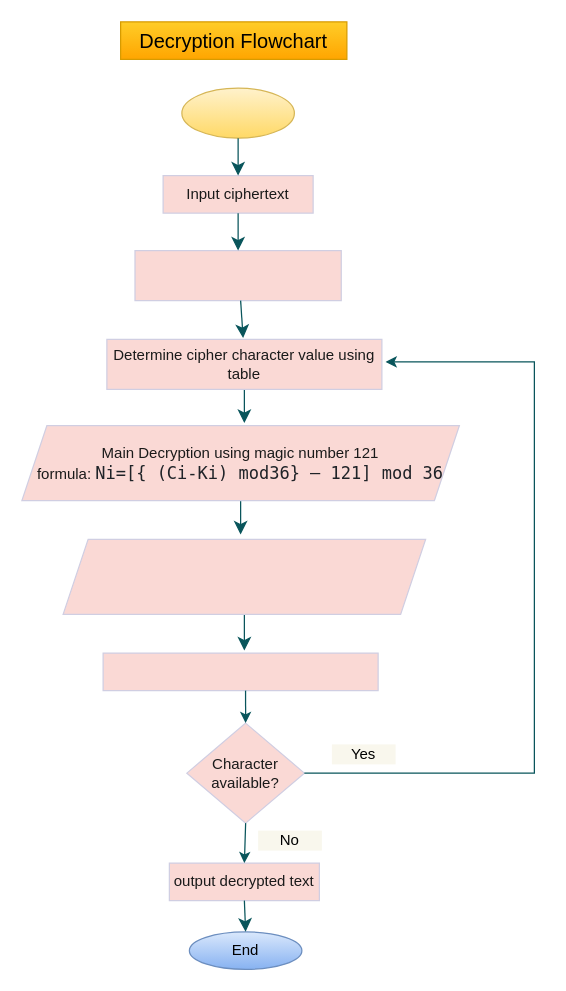
Some shapes in this 566 by 991 pixel diagram are drawn without their labels. Here are the shapes that lost their labels. From the top down, the box of each, then its label:
(181, 87, 294, 138): Start
(134, 249, 341, 301): Extend key to match the length of the ciphertext
(62, 538, 426, 614): Determine the original plaintext position formula:: Mi={Ni – ⌊(K/2)⌋ }mod 36
(102, 652, 378, 691): map Mi value to character
